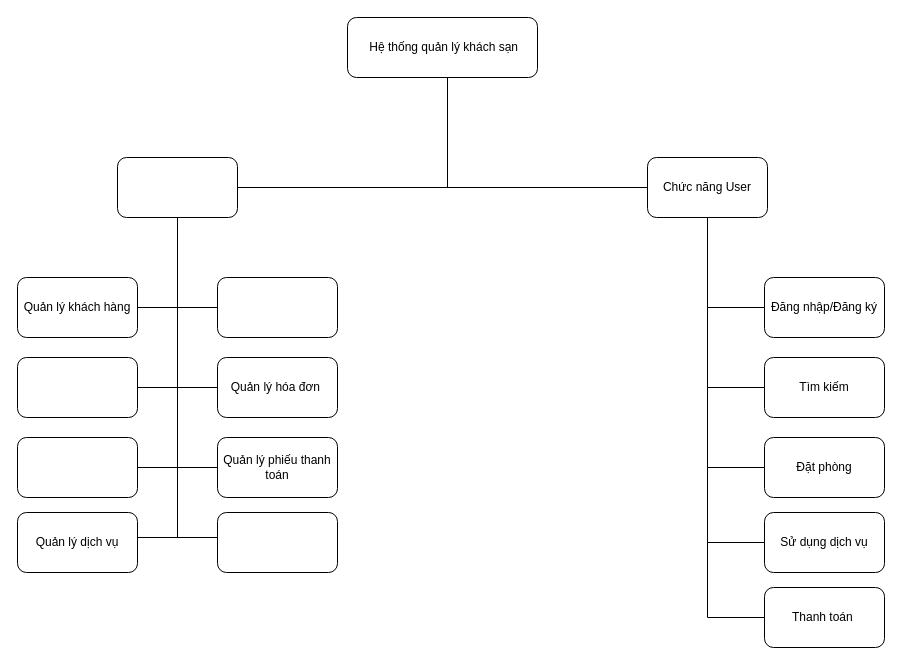
Some shapes in this 902 by 665 pixel diagram are drawn without their labels. The shapes that lost their labels are listed below. From the top down, each one's centre as x and y in pixels, then its label:
At pixel 177 187: "Chứ năng quản lý Adimin".
At pixel 277 307: "Quản lý phòng".
At pixel 77 387: "Quản lý nhân viên".
At pixel 77 467: "Quản lý phiếu đăng ký".
At pixel 277 542: "Quản lý chức vụ".
